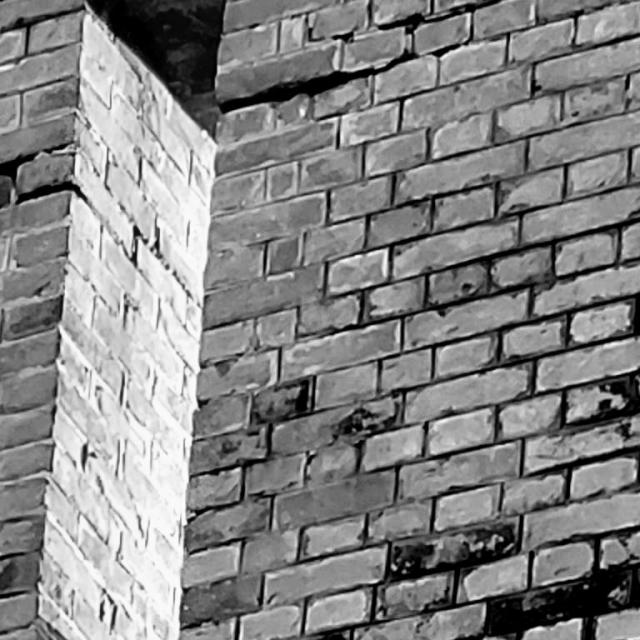crack: (218, 42, 460, 111), (1, 143, 87, 205), (377, 1, 500, 36), (131, 224, 161, 268)
